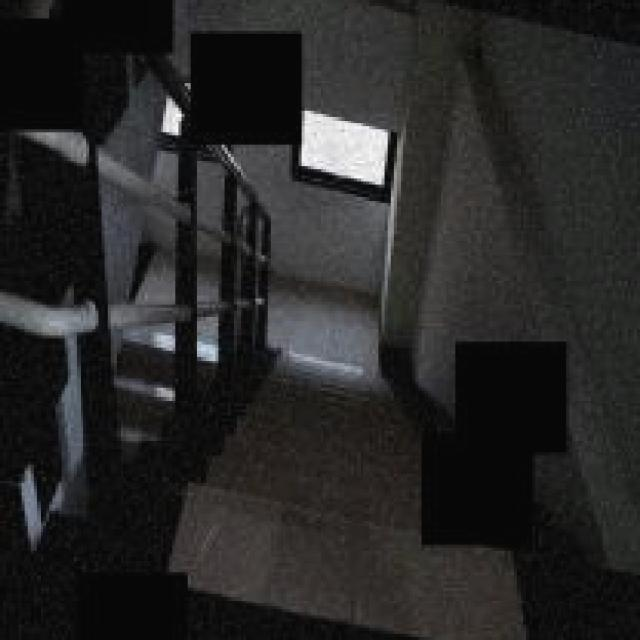downstair: (232, 376, 401, 632)
